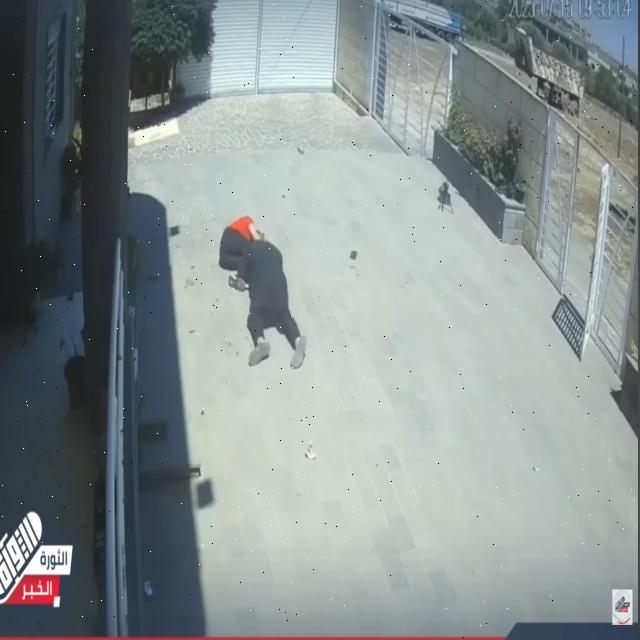fallen: (236, 235, 306, 368)
